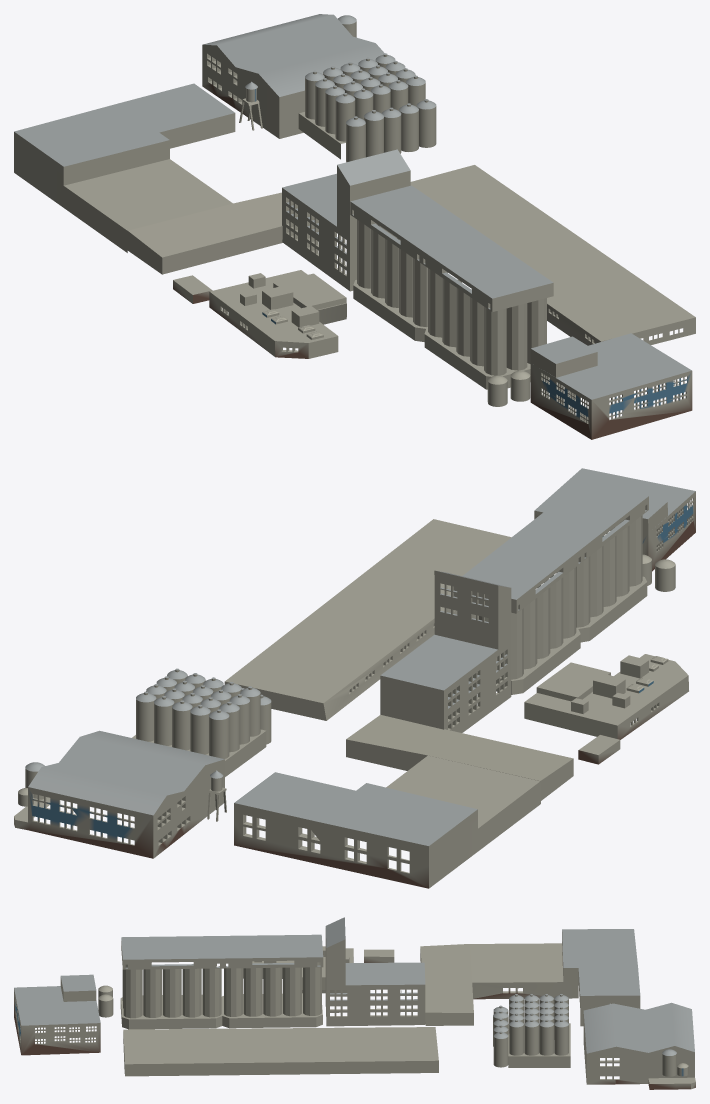
3 views of the same model, one above another, from view 1: azimuth 30°, elevation 25°; view 2: azimuth 150°, elevation 25°; view 3: azimuth 270°, elevation 25° (orthographic). The views are drawn at different scales.
Bounding box in the file's own units: 42.27 × 13.19 × 91.33.
